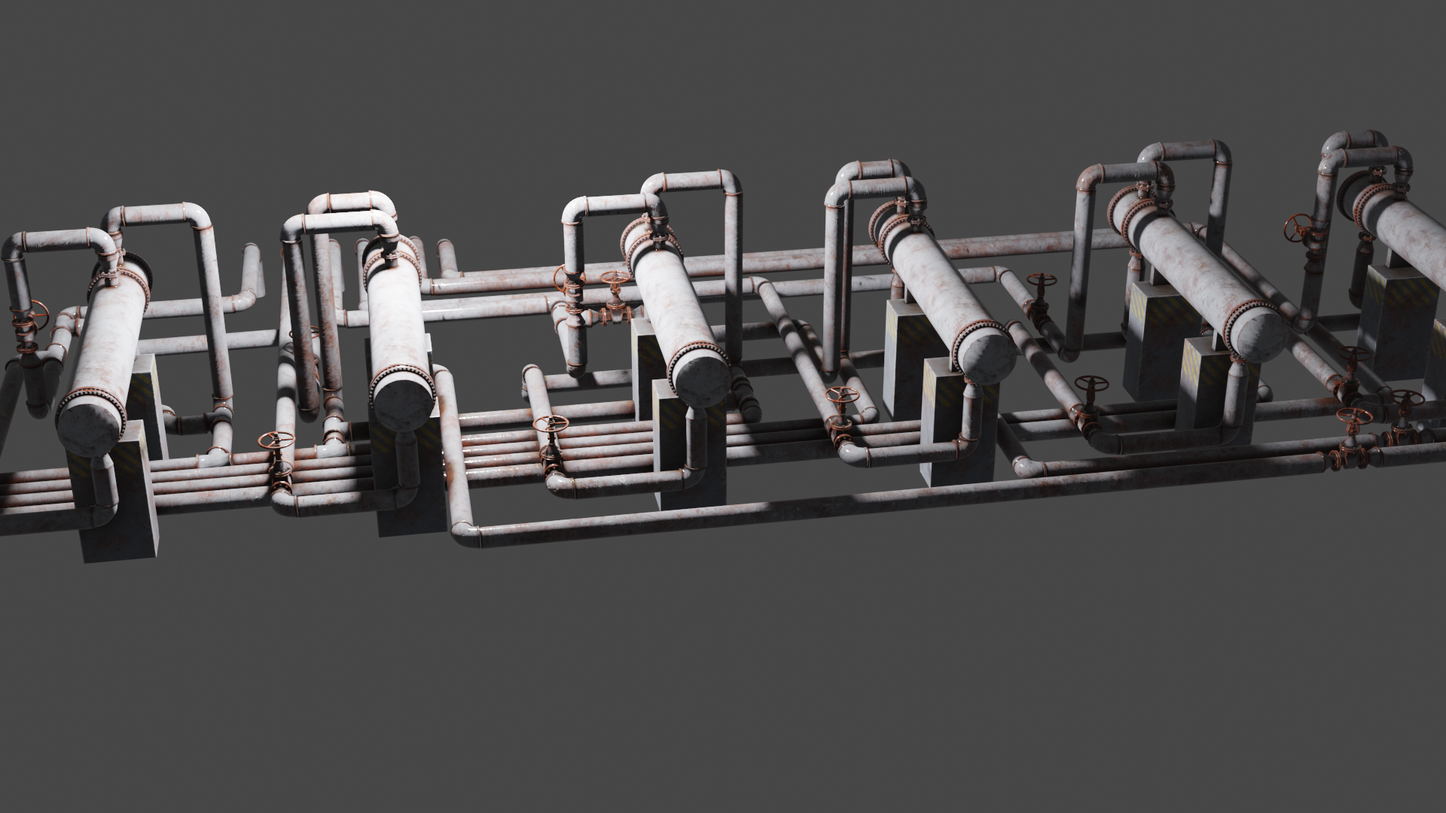HE_1: (1338, 166, 1446, 295)
HE_2: (1111, 183, 1283, 365)
HE_3: (870, 206, 1017, 389)
HE_4: (620, 213, 733, 410)
HE_5: (358, 235, 432, 430)
HE_6: (55, 251, 153, 457)
